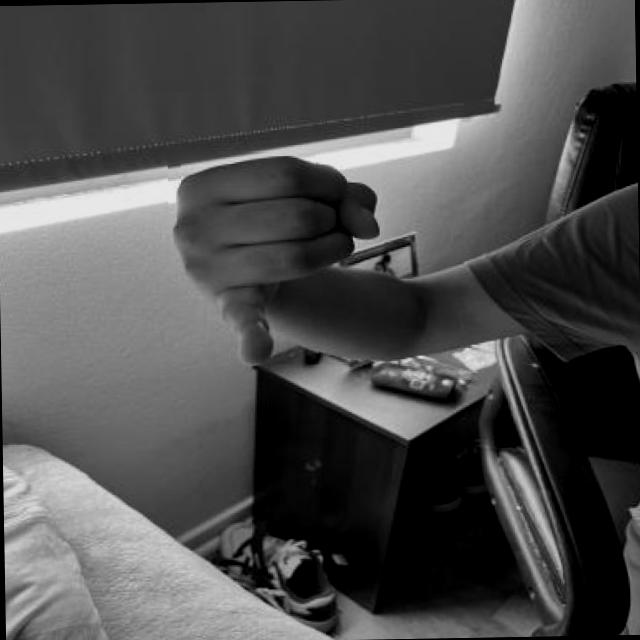Z: (166, 149, 386, 367)
